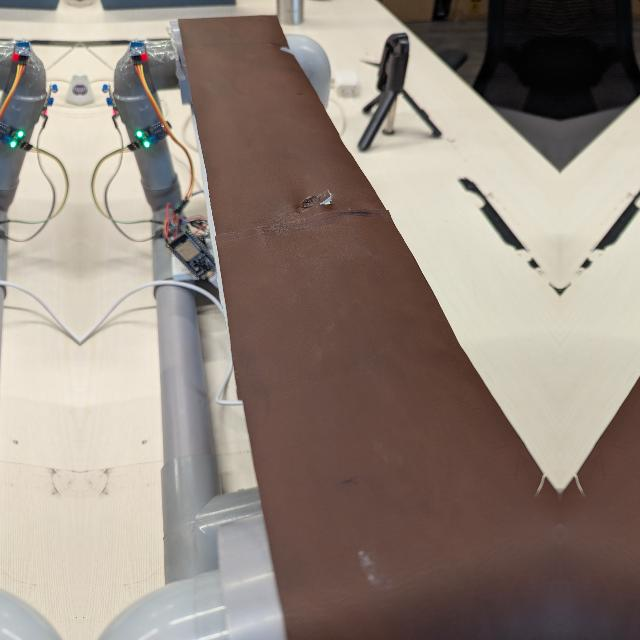joint_damage: (290, 175, 346, 219)
